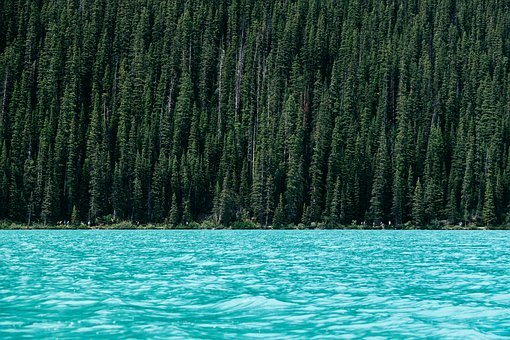forest: (4, 3, 510, 225)
sea: (4, 228, 509, 340)
